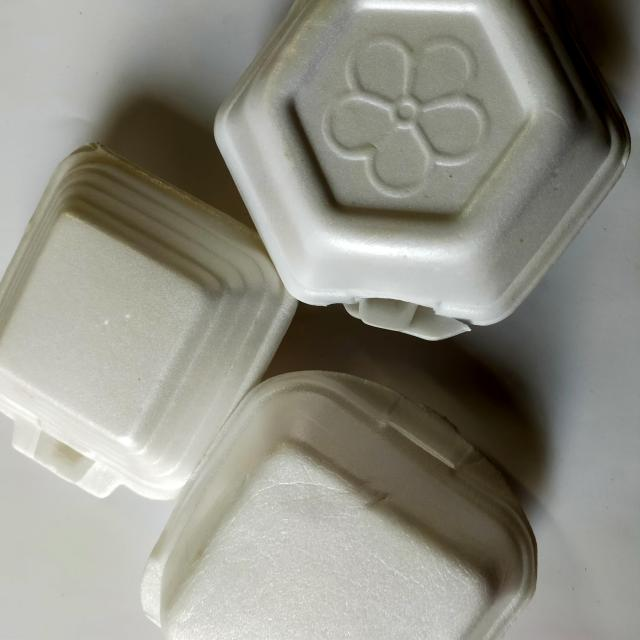styrofoam: (2, 1, 634, 638), (212, 0, 631, 342), (139, 368, 539, 639), (0, 139, 298, 501)
